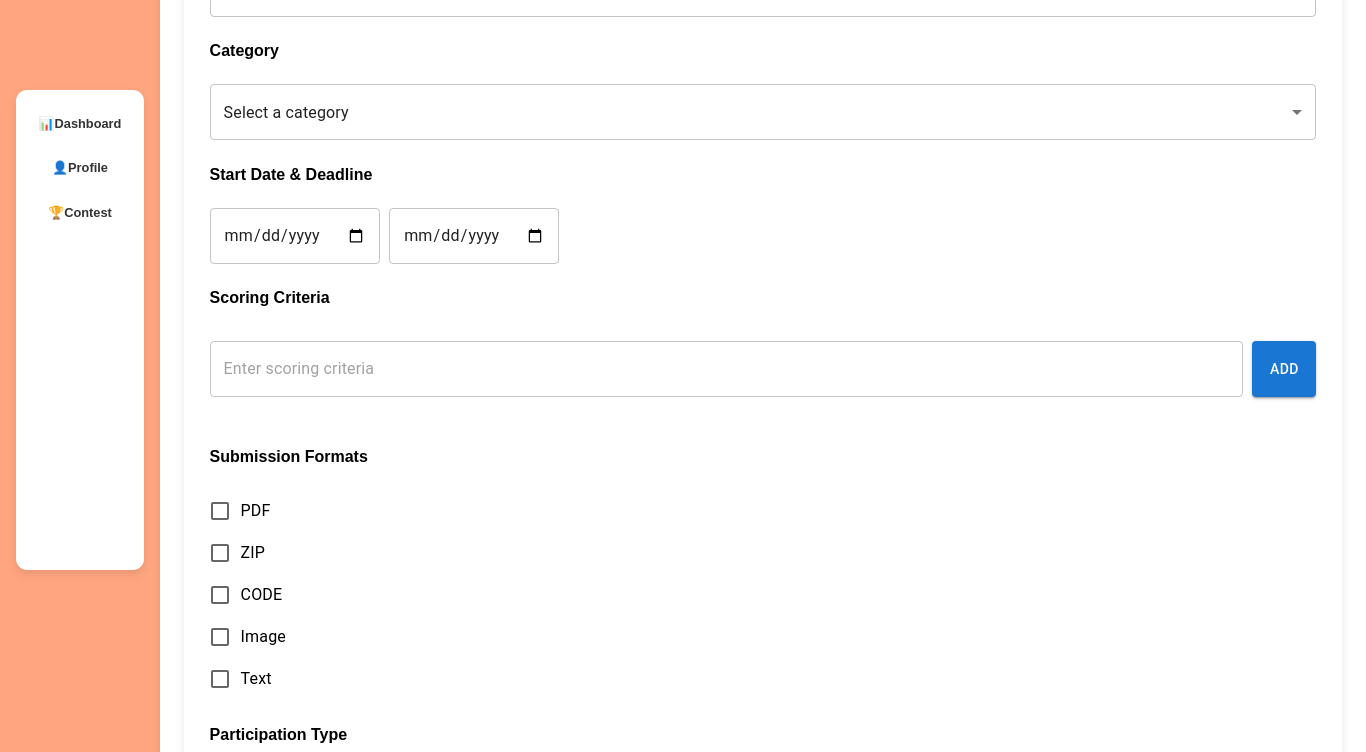
Test: OrganizerContest › can add and remove scoring criteria
The image size is (1366, 752).
(page scrolled)
Type "Creativity" into the field with placeholder "Enter scoring criteria".
click(726, 369); type("Creativity")  # box 210,341 -> 1243,397
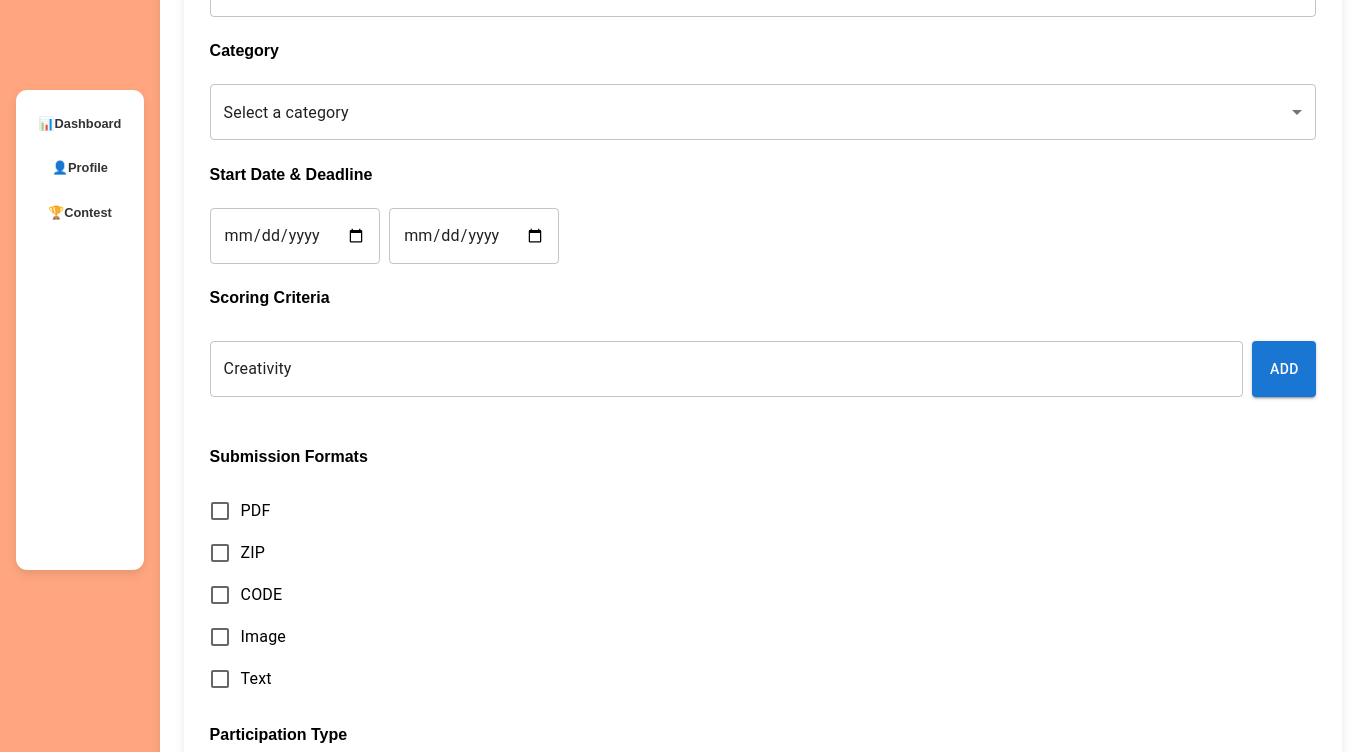
Click the button "Add".
click(1284, 369)  # box 1252,341 -> 1316,397
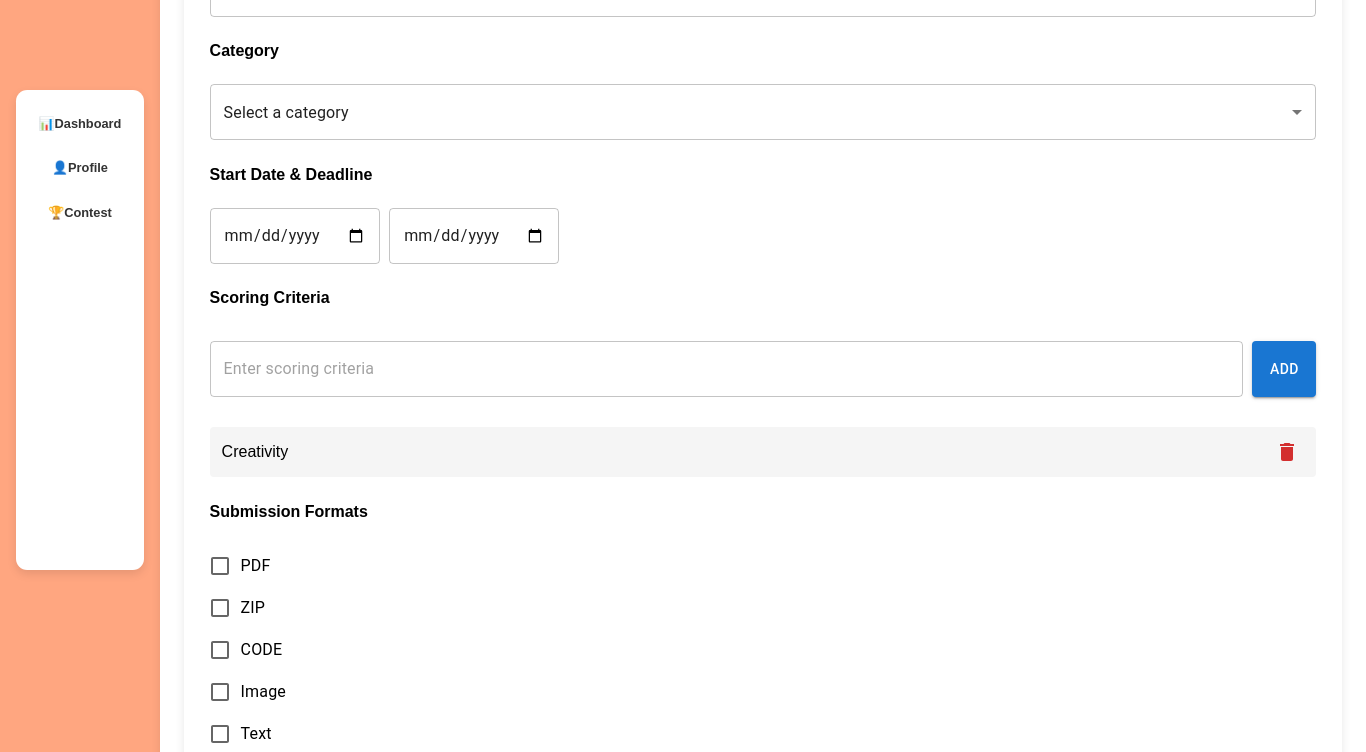
Check: the list item "Creativity" is shown, box 210,427 -> 1316,477
Click the button named "delete".
click(1287, 452)  # box 1270,435 -> 1304,469
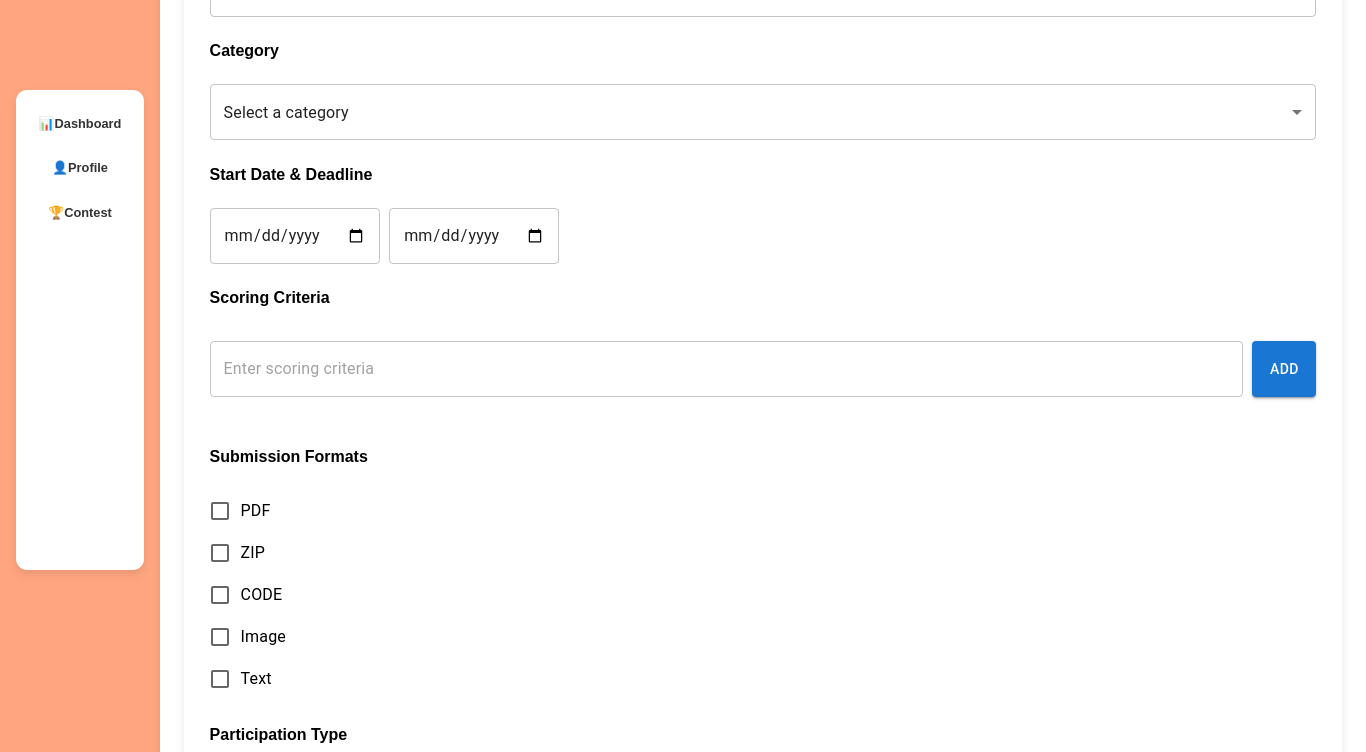
Check: the list item "Creativity" is gone
